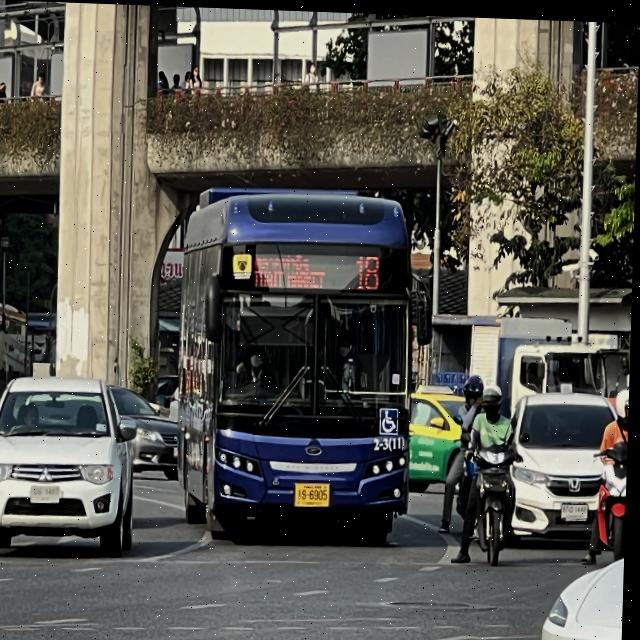Bus-Line-Number: (350, 242, 393, 297)
Destination-Sign-Normal: (248, 245, 331, 290)
TSB-Bus: (176, 183, 423, 548)
